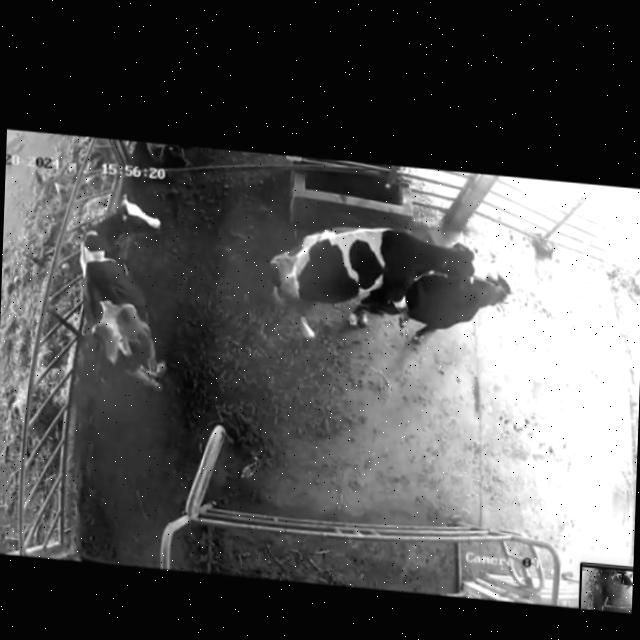ride: (260, 201, 478, 364)
stand: (62, 184, 177, 390), (364, 260, 520, 376)
